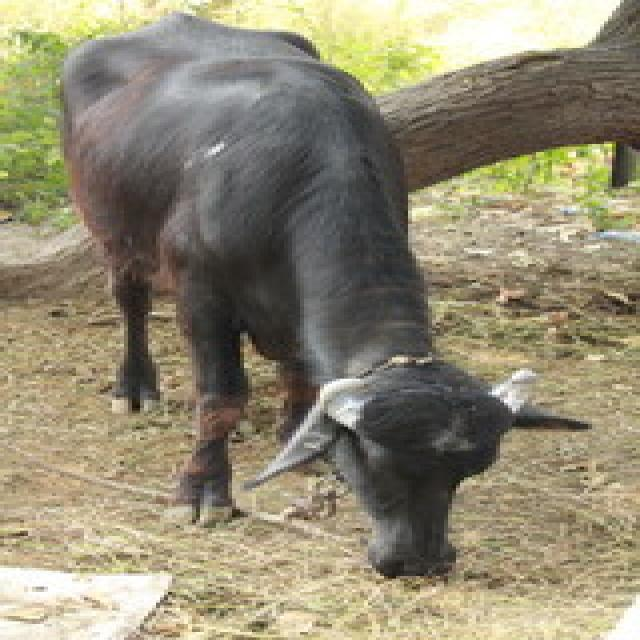Buffalo: (52, 8, 592, 579)
